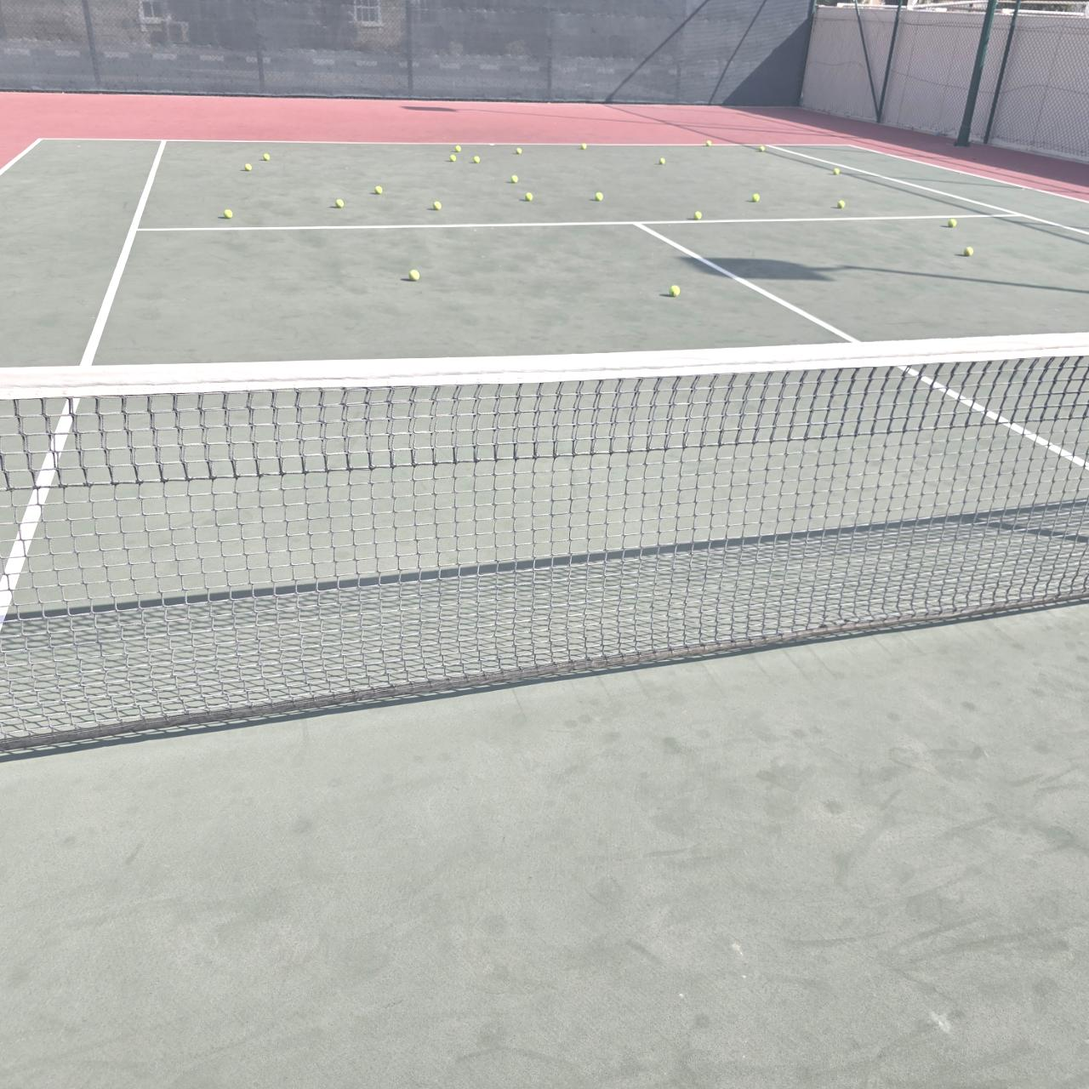tennis-ball: (669, 284, 680, 296), (408, 269, 419, 281), (963, 246, 974, 257), (222, 209, 233, 219), (594, 191, 603, 202), (433, 201, 442, 210), (693, 211, 702, 220), (948, 219, 957, 228), (525, 192, 533, 202), (336, 199, 344, 208), (375, 185, 383, 194), (837, 200, 845, 209), (752, 193, 760, 202), (244, 163, 252, 171), (263, 153, 270, 161), (511, 175, 518, 183), (455, 145, 462, 152), (473, 156, 480, 163), (580, 143, 587, 150), (659, 158, 666, 165), (833, 168, 840, 175), (450, 154, 456, 162), (516, 147, 522, 155), (706, 140, 712, 147), (759, 146, 765, 152)
